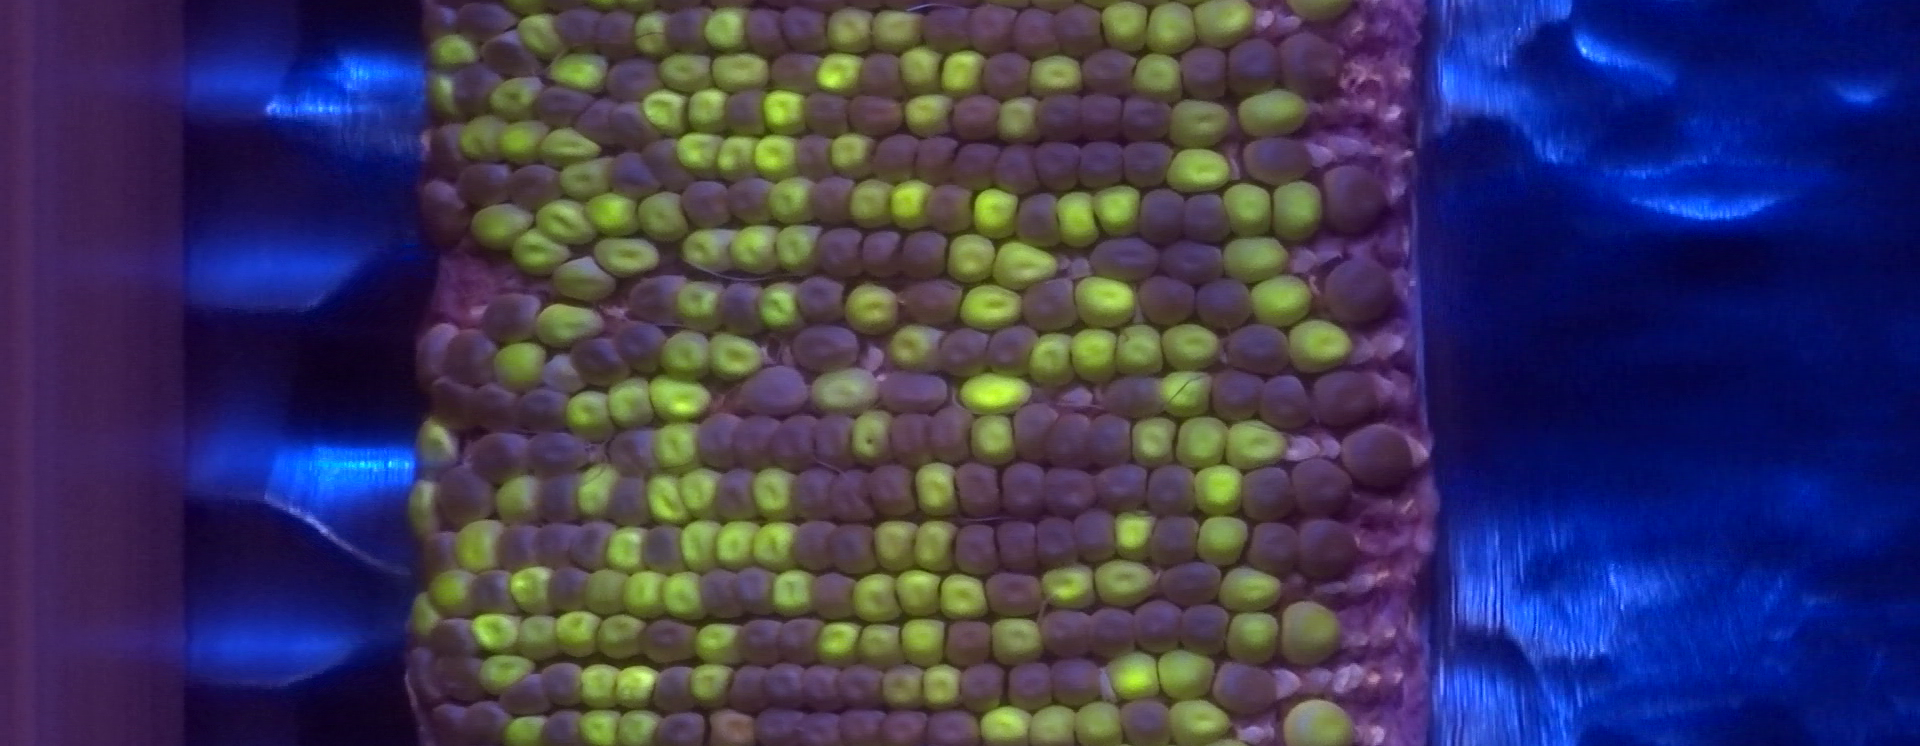fluorescent: (1276, 595, 1344, 671), (1277, 696, 1364, 746), (1152, 646, 1222, 703), (1071, 276, 1140, 331), (1238, 88, 1309, 141), (1251, 271, 1314, 330), (955, 372, 1038, 416), (842, 282, 904, 341), (1291, 315, 1353, 372), (991, 240, 1062, 290), (1103, 646, 1164, 703), (529, 196, 596, 247), (562, 385, 621, 443), (958, 285, 1031, 332), (1215, 567, 1284, 616), (847, 408, 899, 474), (812, 367, 883, 415), (1164, 698, 1236, 746), (647, 374, 714, 424), (535, 301, 607, 348), (1091, 559, 1163, 605), (1269, 176, 1320, 241), (1188, 1, 1258, 49), (675, 276, 732, 333), (1157, 322, 1224, 371), (590, 235, 665, 279), (1220, 235, 1292, 281), (1226, 418, 1291, 468), (678, 225, 741, 277), (1198, 513, 1253, 571), (1191, 465, 1250, 519), (456, 516, 509, 575), (1166, 149, 1236, 195), (1223, 610, 1283, 663), (1070, 326, 1120, 388), (912, 459, 962, 522), (1167, 99, 1236, 145), (967, 412, 1021, 469), (1044, 559, 1102, 612), (889, 323, 948, 376), (1176, 414, 1229, 470), (1128, 413, 1179, 472), (1098, 1, 1152, 56), (969, 185, 1021, 241), (495, 341, 551, 393), (638, 186, 688, 245), (544, 51, 612, 94), (576, 461, 622, 523), (945, 233, 1000, 285), (474, 202, 531, 252), (555, 256, 618, 301), (585, 190, 639, 243), (710, 332, 765, 383), (664, 328, 719, 380), (988, 616, 1044, 666), (898, 616, 954, 666), (775, 220, 824, 278), (732, 222, 781, 279), (680, 517, 729, 575), (433, 562, 481, 621), (913, 516, 959, 577), (1109, 507, 1162, 560), (850, 572, 902, 625), (1161, 367, 1215, 419), (607, 376, 658, 431), (1224, 183, 1273, 239), (715, 518, 763, 576), (595, 610, 647, 663), (1116, 323, 1164, 379), (868, 9, 924, 56), (643, 86, 693, 138), (816, 620, 868, 670), (1029, 334, 1078, 388), (936, 570, 989, 619), (691, 619, 744, 668), (495, 472, 542, 527), (506, 563, 553, 619), (473, 655, 538, 696), (771, 566, 818, 622), (659, 51, 718, 96), (416, 416, 465, 469), (896, 567, 945, 620), (1146, 1, 1194, 55), (753, 521, 801, 575), (1073, 698, 1127, 746), (973, 706, 1037, 746), (680, 465, 722, 526), (749, 468, 796, 523), (622, 568, 669, 624), (403, 477, 444, 538), (872, 519, 916, 577), (542, 126, 605, 167), (887, 176, 936, 228), (655, 421, 704, 473), (759, 282, 807, 334), (511, 228, 564, 274), (1091, 183, 1138, 236), (686, 660, 741, 706), (629, 6, 677, 58), (611, 664, 666, 708), (849, 176, 891, 233), (816, 51, 864, 100), (767, 176, 816, 225), (460, 113, 511, 160), (855, 619, 902, 669), (702, 5, 748, 56), (752, 134, 803, 180), (662, 570, 707, 624), (1056, 187, 1093, 250), (1027, 51, 1082, 94), (555, 610, 602, 659), (827, 6, 873, 56), (560, 156, 613, 198), (516, 11, 563, 59), (996, 94, 1040, 146), (676, 131, 720, 183), (902, 93, 955, 136), (713, 51, 771, 89), (467, 611, 522, 652), (830, 131, 877, 179), (517, 611, 564, 658), (940, 48, 984, 98), (719, 130, 763, 180), (490, 76, 541, 119), (1030, 703, 1081, 746), (901, 47, 945, 96), (504, 118, 547, 168), (585, 567, 628, 617), (578, 660, 622, 708), (606, 524, 647, 576), (1134, 56, 1180, 100), (924, 663, 967, 710), (764, 89, 806, 138), (882, 664, 924, 710), (426, 33, 484, 67), (647, 475, 684, 526), (613, 706, 660, 746), (687, 87, 726, 132), (579, 707, 624, 746), (705, 708, 752, 746), (408, 590, 440, 644), (1287, 1, 1358, 24), (501, 712, 547, 746), (426, 71, 457, 121)
nonfluorescent: (1271, 24, 1337, 98), (1322, 167, 1385, 236), (1346, 426, 1408, 494), (1326, 258, 1390, 323), (1210, 663, 1277, 713), (1298, 519, 1356, 577), (409, 323, 458, 390), (735, 367, 803, 414), (1316, 367, 1373, 423), (468, 435, 529, 485), (1242, 138, 1313, 181), (1291, 459, 1347, 513), (436, 470, 492, 523), (476, 33, 541, 78), (1091, 235, 1160, 278), (628, 274, 687, 323), (898, 276, 962, 320), (792, 326, 857, 370), (1079, 48, 1138, 96), (1010, 402, 1058, 461), (1226, 325, 1287, 370), (1240, 468, 1291, 523), (481, 293, 538, 342), (422, 178, 467, 240), (1213, 370, 1265, 423), (1130, 598, 1180, 652), (987, 571, 1042, 620), (696, 410, 738, 473), (1141, 187, 1187, 246), (1022, 279, 1075, 330), (572, 336, 626, 385), (1256, 376, 1310, 425), (899, 229, 947, 284), (716, 281, 764, 336), (882, 370, 947, 410), (1136, 274, 1193, 321), (1196, 278, 1254, 323), (1102, 375, 1161, 419), (945, 615, 994, 668), (615, 321, 669, 369), (1231, 36, 1277, 91), (965, 5, 1018, 53), (448, 331, 493, 386), (733, 412, 778, 468), (451, 62, 500, 113), (606, 428, 656, 477), (1180, 606, 1231, 655), (780, 2, 828, 54), (429, 377, 476, 429), (1244, 522, 1299, 566), (456, 159, 512, 202), (607, 53, 658, 100), (988, 326, 1038, 374), (473, 383, 519, 435), (644, 619, 696, 665), (680, 183, 732, 228), (1095, 464, 1147, 510), (817, 225, 861, 279), (869, 464, 913, 518), (1160, 243, 1222, 281), (729, 176, 779, 223), (1185, 191, 1231, 243), (829, 468, 874, 519), (735, 563, 780, 615), (1161, 563, 1222, 601), (1120, 141, 1173, 185), (662, 5, 716, 48), (528, 432, 583, 474), (1089, 414, 1130, 469), (789, 521, 835, 570), (1040, 610, 1091, 654), (1089, 606, 1133, 658), (1178, 50, 1231, 93), (932, 402, 970, 461), (891, 410, 932, 465), (606, 472, 647, 527), (791, 468, 831, 523), (912, 136, 960, 183), (1151, 516, 1198, 563), (1056, 9, 1104, 54), (981, 50, 1030, 96), (533, 474, 577, 524), (949, 97, 1000, 140), (1048, 414, 1091, 465), (768, 51, 822, 92), (538, 85, 591, 125), (940, 327, 984, 376), (1044, 468, 1093, 512), (954, 526, 998, 575), (1119, 702, 1169, 745), (431, 653, 482, 695), (816, 173, 856, 225), (927, 184, 973, 229), (800, 276, 845, 322), (955, 464, 1000, 511), (644, 138, 687, 187), (642, 526, 684, 575), (778, 414, 816, 469), (1005, 464, 1043, 519), (617, 99, 659, 149), (994, 518, 1035, 570), (703, 567, 743, 619), (407, 639, 440, 702), (849, 96, 901, 135), (1124, 97, 1171, 141), (1036, 93, 1082, 137), (924, 9, 972, 51), (804, 89, 852, 132), (1014, 194, 1057, 241), (1149, 467, 1191, 514), (830, 523, 873, 571), (516, 390, 564, 431), (573, 519, 613, 570), (746, 6, 785, 58), (776, 616, 822, 660), (860, 50, 902, 97), (549, 563, 590, 611), (733, 620, 781, 661), (609, 149, 655, 191), (791, 134, 838, 175), (474, 568, 516, 615), (1053, 659, 1100, 701), (1082, 91, 1120, 141), (877, 131, 915, 181), (1016, 10, 1058, 55), (1038, 141, 1079, 187), (552, 9, 601, 47), (1080, 145, 1123, 187), (994, 145, 1036, 189), (651, 666, 693, 710), (596, 11, 637, 56), (839, 669, 884, 709), (460, 4, 516, 37), (818, 415, 851, 470), (1078, 513, 1116, 561), (954, 140, 996, 183), (726, 89, 765, 135), (465, 699, 507, 741), (767, 663, 804, 708), (962, 663, 1004, 703), (514, 167, 560, 203), (1037, 518, 1074, 563), (929, 712, 980, 745), (650, 712, 704, 742), (579, 100, 618, 142), (862, 230, 899, 274), (817, 575, 853, 619), (804, 663, 841, 707), (718, 468, 749, 518), (1010, 665, 1049, 706), (422, 534, 460, 576), (538, 521, 573, 565), (433, 619, 474, 657), (540, 661, 580, 699), (730, 664, 764, 708), (431, 127, 469, 167), (508, 671, 545, 712), (501, 521, 533, 566), (429, 706, 471, 739), (538, 710, 580, 744), (887, 707, 926, 741), (419, 2, 454, 38), (758, 712, 801, 740), (844, 712, 884, 739), (803, 714, 839, 744)
